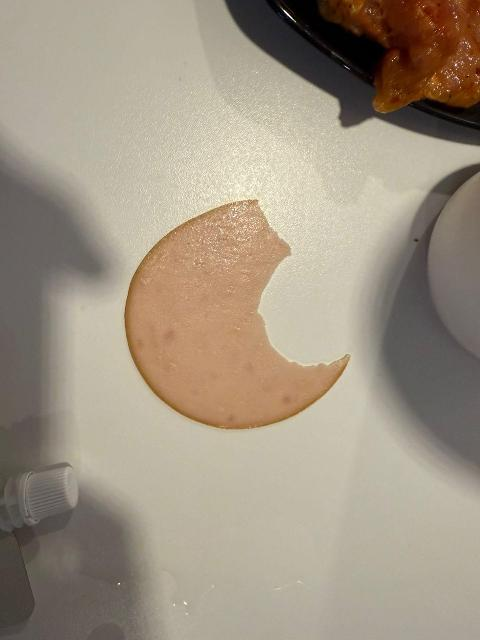Organik: (112, 189, 361, 433)
Plastik: (24, 460, 92, 533)
